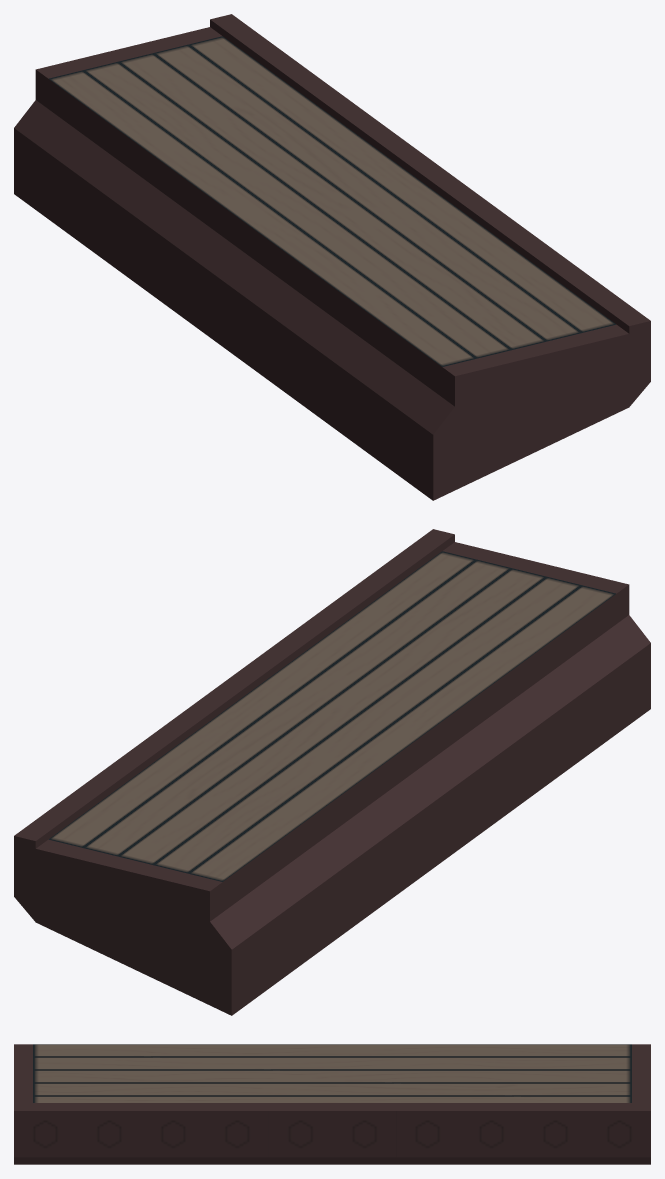
Rendered from SW_ENV_EL_TrackBase_Walkway_Side_5m.fbx.
3 views of the same model, one above another, from view 1: azimuth 30°, elevation 25°; view 2: azimuth 150°, elevation 25°; view 3: azimuth 270°, elevation 25° (orthographic). The views are drawn at different scales.
Visible parts, largest first — view 1: SW_ENV_EL_TrackBase_Walkway_Side_5m; view 2: SW_ENV_EL_TrackBase_Walkway_Side_5m; view 3: SW_ENV_EL_TrackBase_Walkway_Side_5m.
Part boxes in pixels (x1=…): SW_ENV_EL_TrackBase_Walkway_Side_5m: x1=14, y1=14, x2=650, y2=500; SW_ENV_EL_TrackBase_Walkway_Side_5m: x1=14, y1=529, x2=650, y2=1015; SW_ENV_EL_TrackBase_Walkway_Side_5m: x1=14, y1=1044, x2=650, y2=1164.
Bounding box in the file's own units: 150 × 83.5 × 500.
